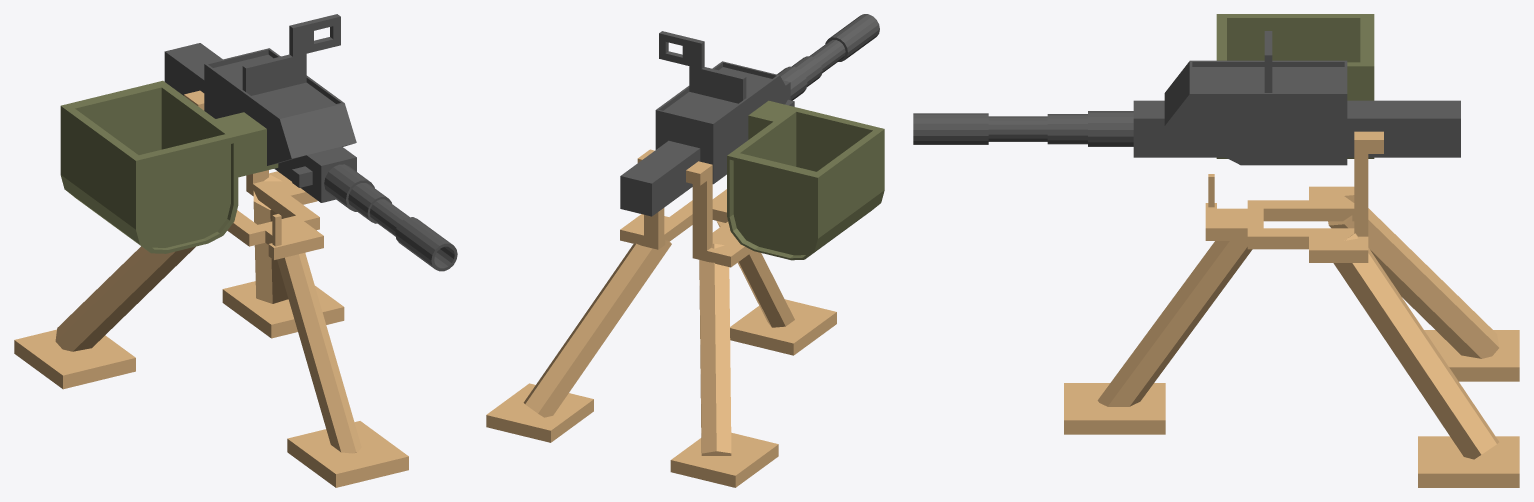
File: GUN.fbx
3 views of the same model, side by side, from view 1: azimuth 30°, elevation 25°; view 2: azimuth 150°, elevation 25°; view 3: azimuth 270°, elevation 25° (orthographic). The views are drawn at different scales.
Visible parts, largest first — view 1: Cube, Cube.003; view 2: Cube, Cube.003; view 3: Cube.003, Cube.
Boxes of the visible parts, bbox=[...] form: Cube: bbox=[60, 14, 457, 271]; Cube.003: bbox=[14, 90, 408, 487]; Cube: bbox=[620, 14, 884, 260]; Cube.003: bbox=[486, 149, 836, 487]; Cube.003: bbox=[1064, 131, 1519, 487]; Cube: bbox=[913, 14, 1460, 165].
Bounding box in the file's own units: 605 × 719 × 997.
